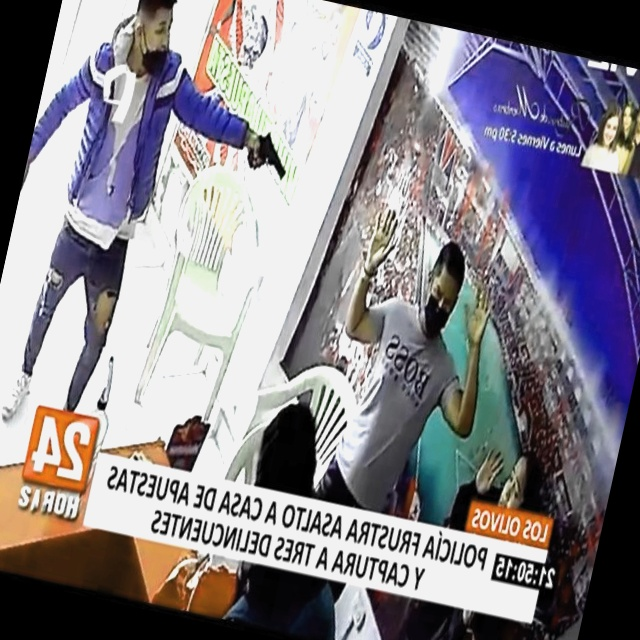gun: (238, 115, 307, 202)
